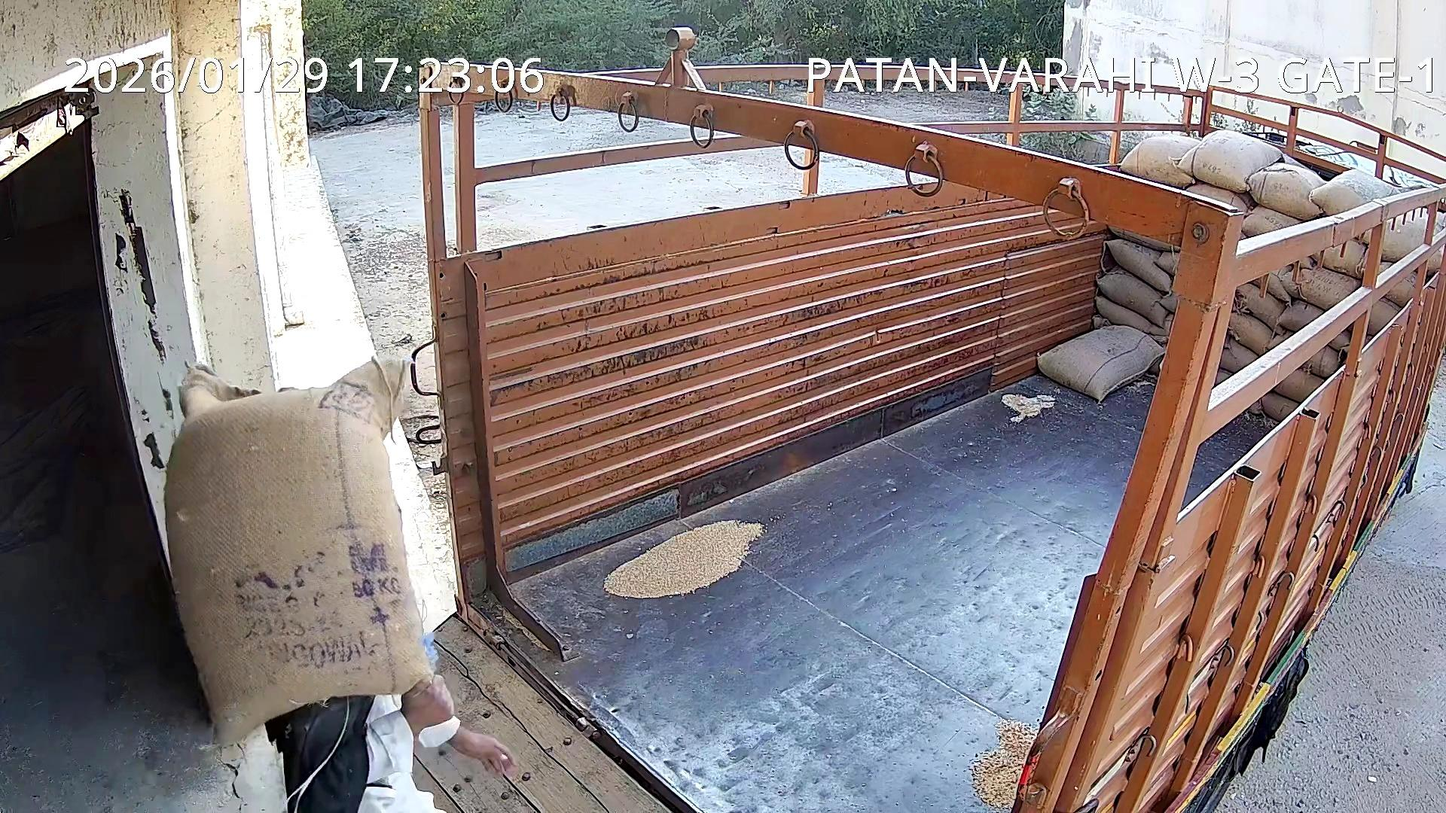Sack: (164, 359, 429, 741)
